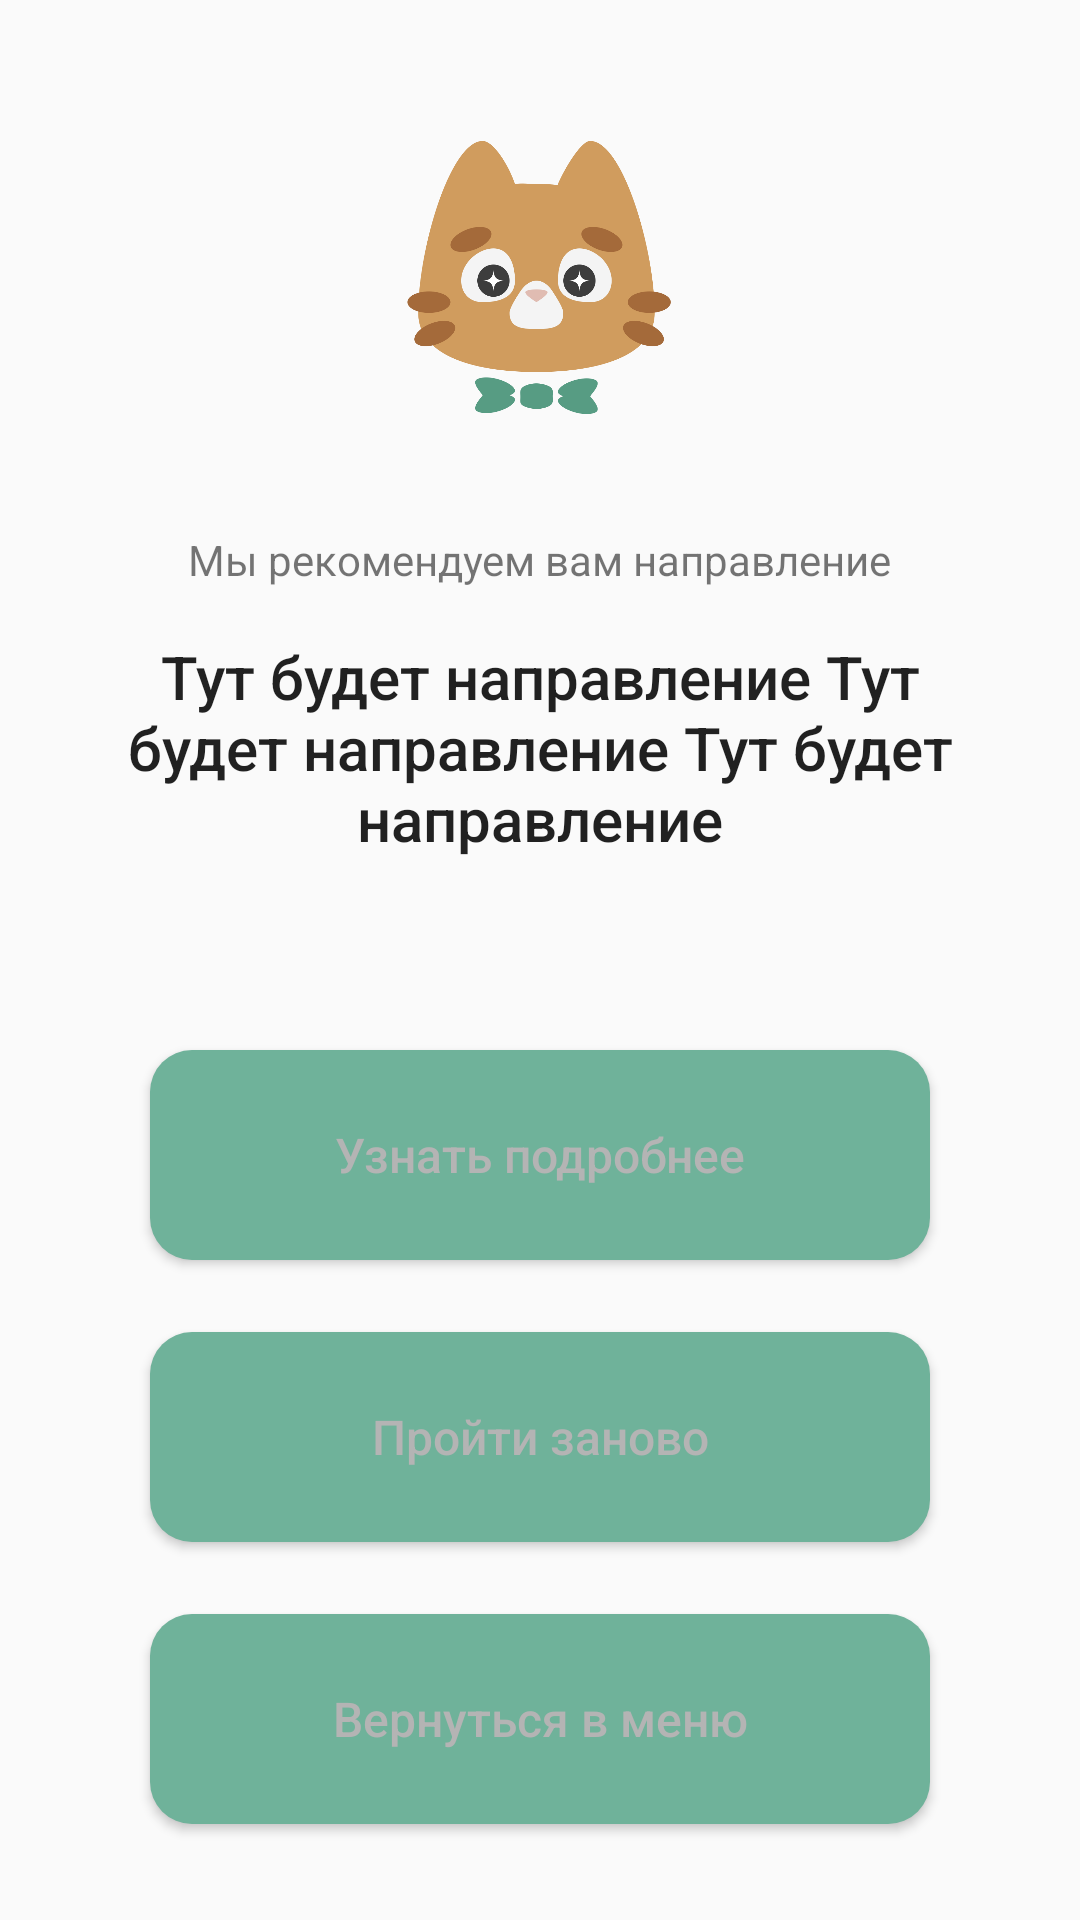

Icon click points for this 1080px x 1920px phone screenshot, format [x,y]:
cat: [539,277]
